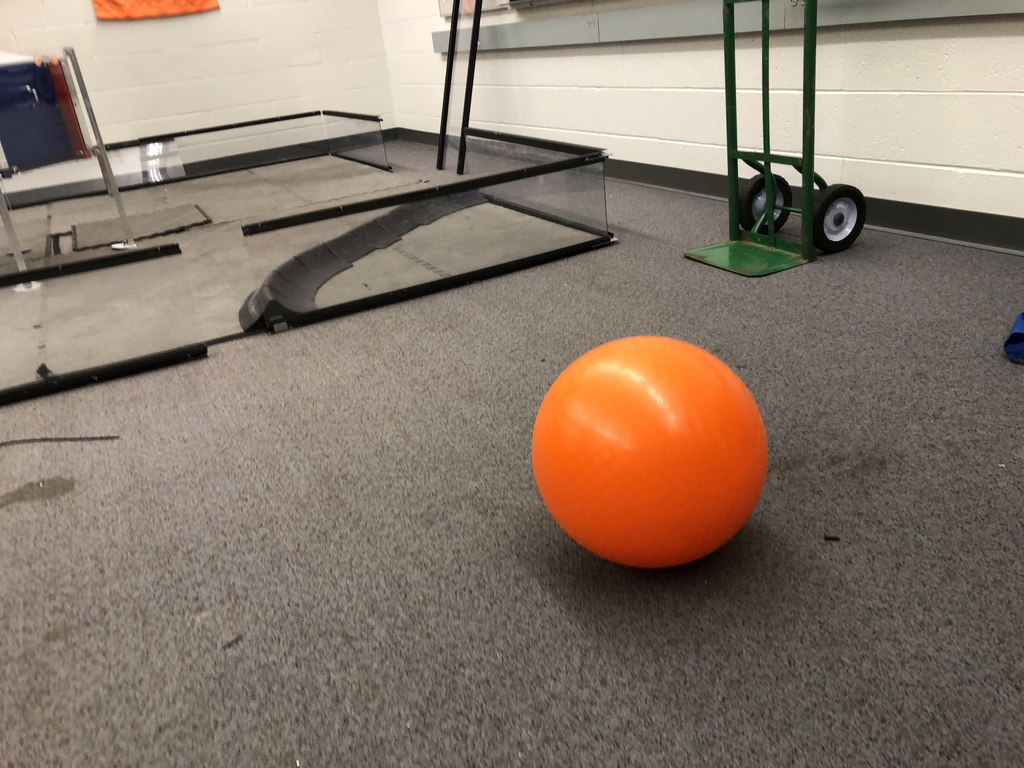cargo: (525, 318, 776, 574)
